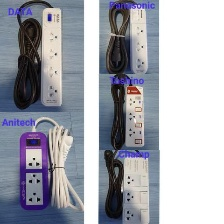three_eye_plug: (16, 129, 50, 211), (38, 5, 63, 108), (118, 154, 152, 223), (126, 3, 149, 74), (121, 83, 145, 148)
